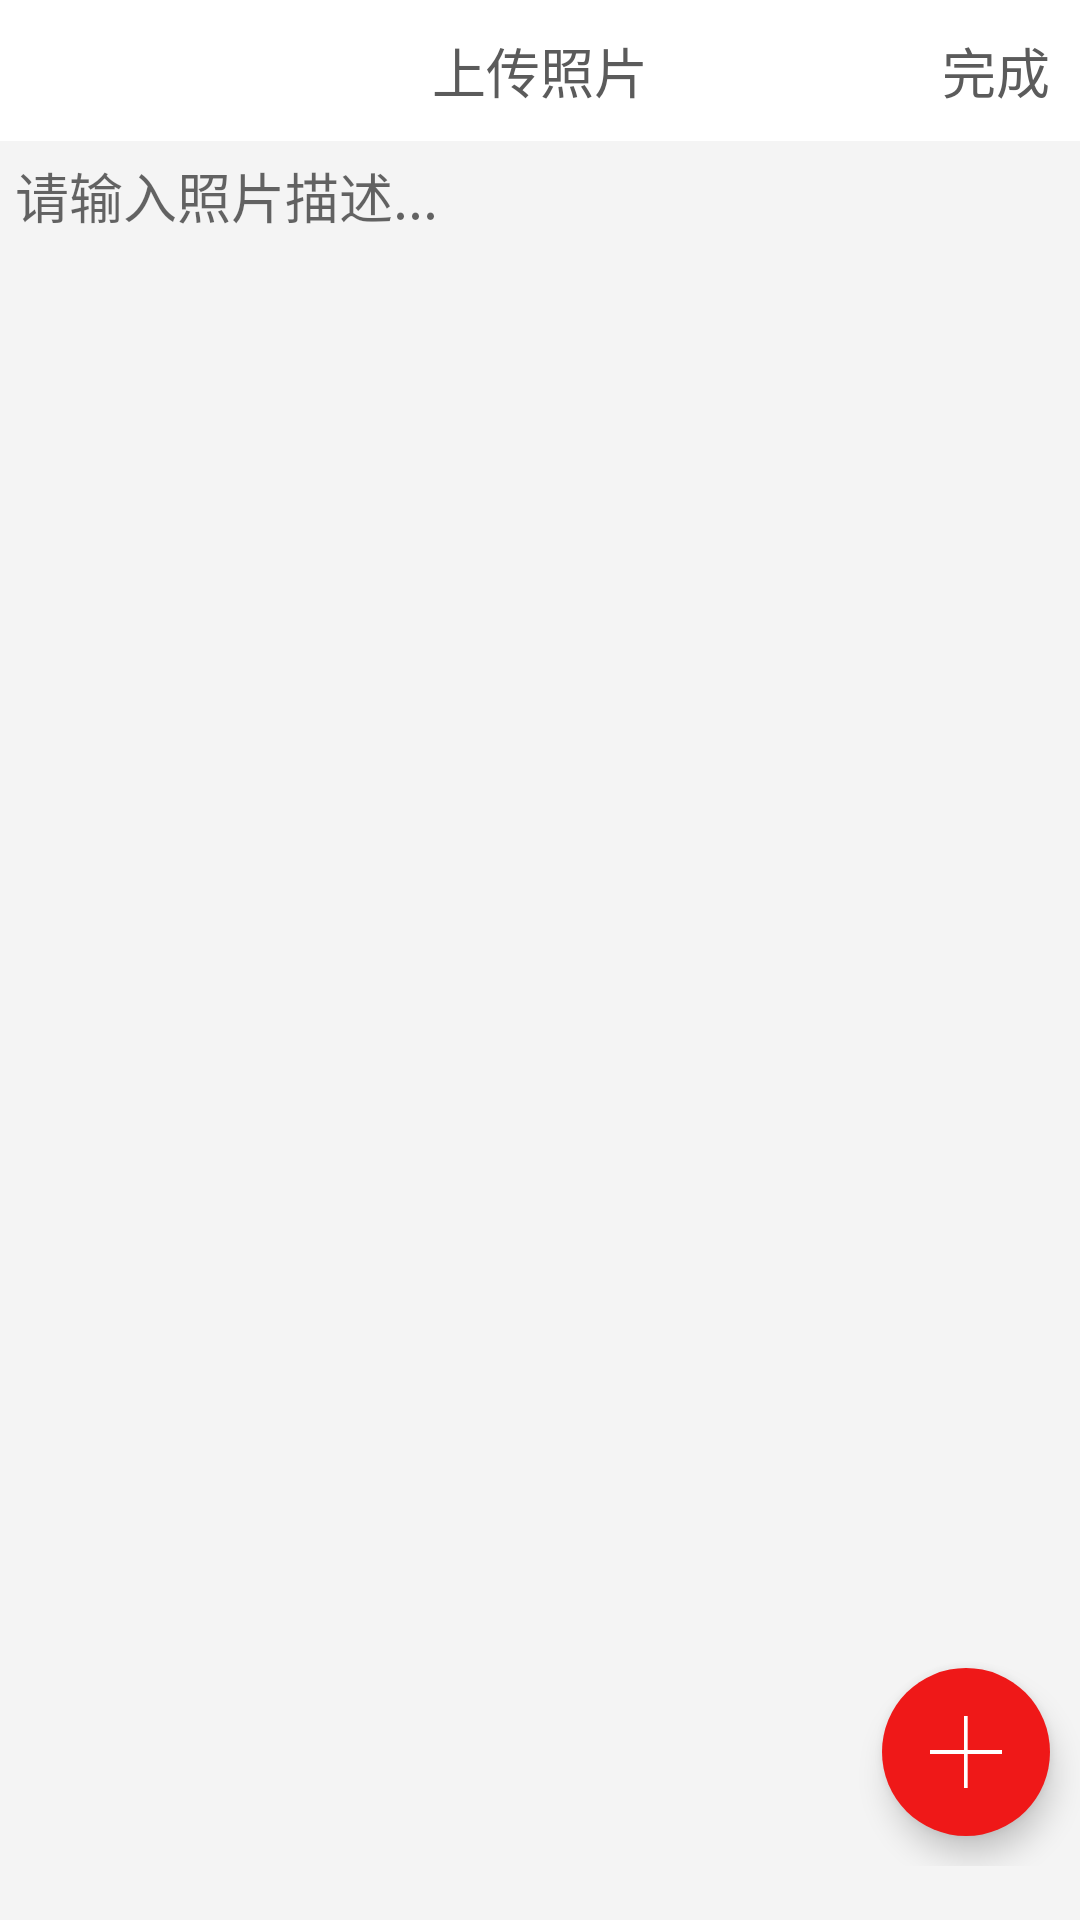

Icons on this 1080 × 1920 Android screen, each with its box as BBox(x1, y1, x2, y2):
fab photo add: BBox(882, 1668, 1050, 1836)
